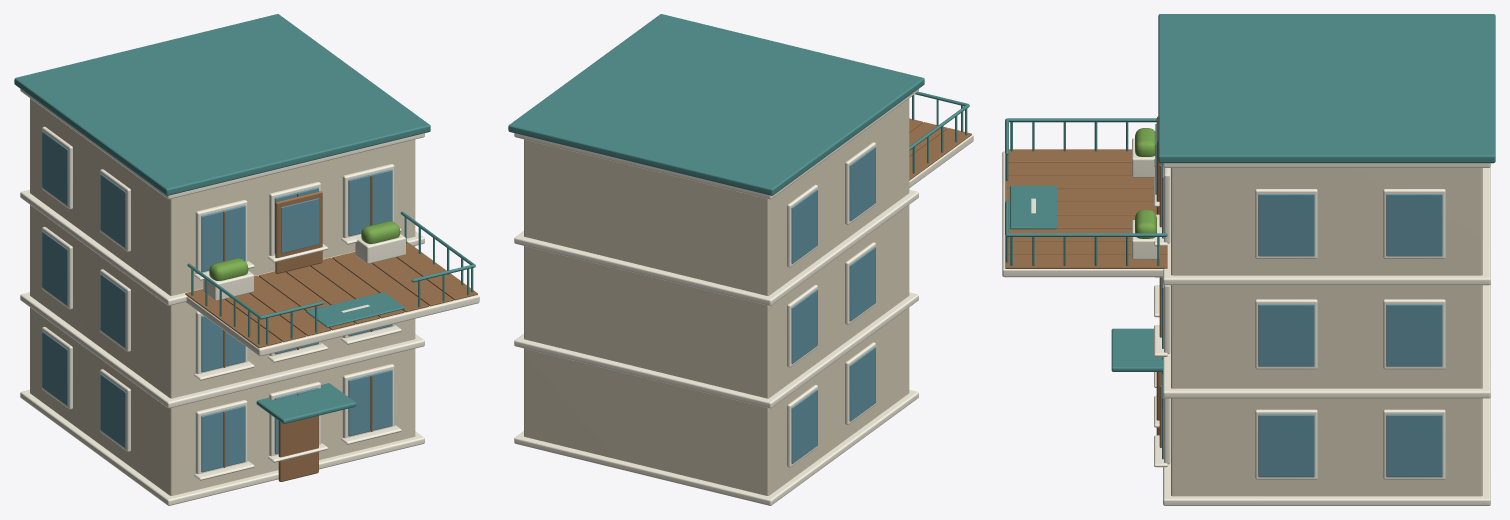
Rendered from balcony-house.glb.
3 views of the same model, side by side, from view 1: azimuth 30°, elevation 25°; view 2: azimuth 150°, elevation 25°; view 3: azimuth 270°, elevation 25° (orthographic). The views are drawn at different scales.
Visible parts, largest first — view 1: Residence, Teal roof cap, Floor cornice.001, Floor cornice, Balcony slab, Window, Window.002, Window.008, Window.006, Entry door, Floor cornice.002, Entry canopy (+37 smaller); view 2: Residence, Teal roof cap, Floor cornice.001, Floor cornice, Floor cornice.002, Floor cornice.003, Side glazing.004, Side glazing.008, Side glazing, Side glazing.009, Side glazing.001, Side glazing.005 (+9 smaller); view 3: Residence, Teal roof cap, Floor cornice.001, Floor cornice.002, Floor cornice, Side glazing.002, Side glazing.003, Side glazing.006, Side glazing.007, Side glazing.010, Side glazing.011, Drone receiving pad (+23 smaller).
Part boxes in pixels (x1,y1,x2,y2): Residence: (30, 98, 415, 495); Teal roof cap: (14, 14, 430, 195); Floor cornice.001: (20, 292, 424, 408); Floor cornice: (20, 390, 424, 505); Balcony slab: (185, 295, 479, 356); Window: (201, 405, 245, 472); Window.002: (348, 369, 392, 436); Window.008: (348, 169, 392, 236); Window.006: (201, 205, 245, 272); Entry door: (278, 415, 318, 481); Floor cornice.002: (20, 190, 424, 305); Entry canopy: (256, 383, 356, 423); Residence: (524, 98, 909, 495); Teal roof cap: (508, 14, 924, 195); Floor cornice.001: (514, 292, 918, 408); Floor cornice: (514, 390, 918, 505); Floor cornice.002: (514, 190, 918, 305); Floor cornice.003: (514, 89, 918, 199); Side glazing.004: (791, 289, 817, 363); Side glazing.008: (791, 189, 817, 263); Side glazing: (791, 389, 817, 463); Side glazing.009: (849, 147, 875, 221); Side glazing.001: (849, 347, 875, 421); Side glazing.005: (849, 247, 875, 321); Residence: (1171, 168, 1482, 496); Teal roof cap: (1158, 14, 1495, 163); Floor cornice.001: (1163, 284, 1490, 398); Floor cornice.002: (1163, 166, 1490, 285); Floor cornice: (1163, 397, 1490, 505); Side glazing.002: (1386, 414, 1442, 477); Side glazing.003: (1258, 414, 1314, 477); Side glazing.006: (1386, 304, 1442, 366); Side glazing.007: (1258, 304, 1314, 366); Side glazing.010: (1386, 194, 1442, 256); Side glazing.011: (1258, 194, 1314, 256); Drone receiving pad: (1010, 185, 1056, 229).
Size of the model in its own units: 10.8 by 12.54 by 15.8.
